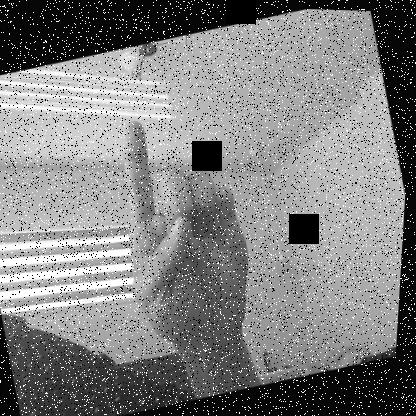D: (92, 96, 279, 354)
